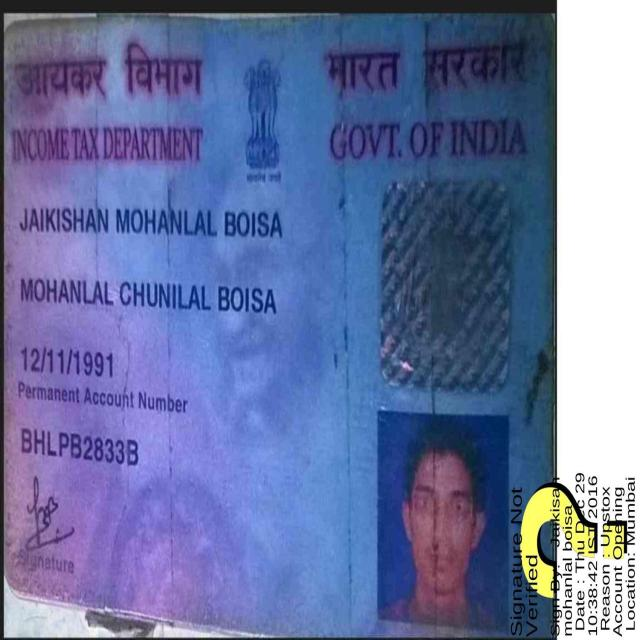pan_card: (6, 13, 554, 640)
